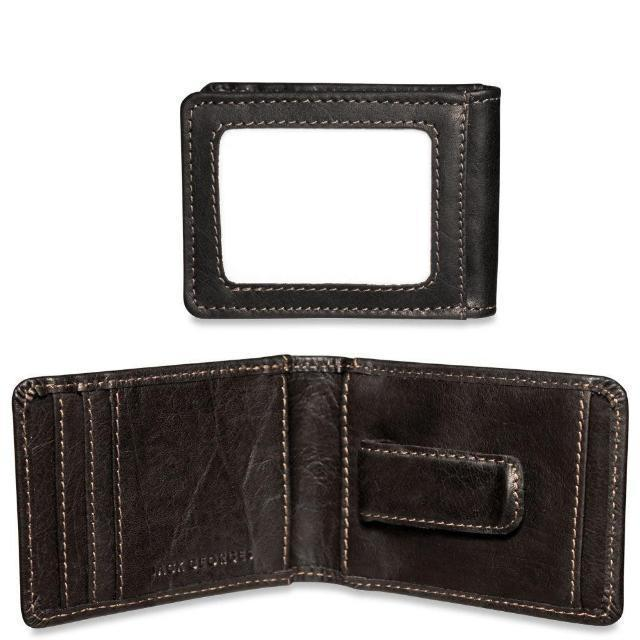wallet: (8, 349, 626, 639), (172, 76, 503, 324)
